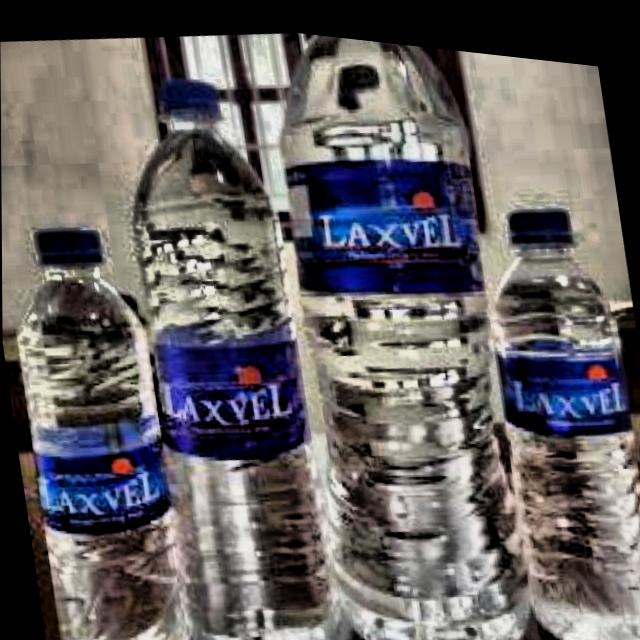Bottles: (71, 41, 366, 640), (264, 23, 536, 640), (1, 189, 193, 640), (461, 158, 640, 640)
